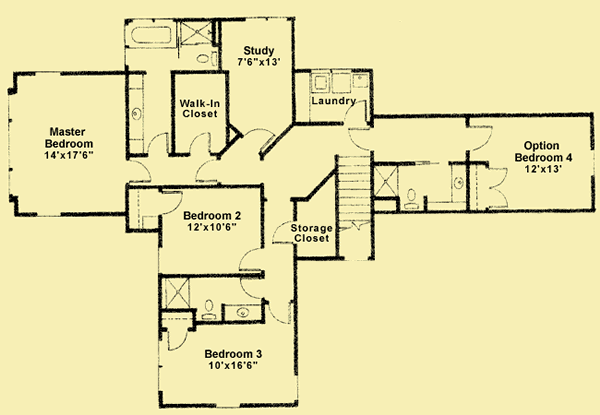door: (487, 164, 512, 209), (241, 127, 275, 154), (234, 246, 264, 272), (467, 122, 493, 151), (125, 157, 152, 184), (269, 218, 295, 246), (265, 302, 293, 328), (346, 126, 373, 152), (144, 131, 171, 156), (158, 190, 183, 215), (189, 132, 213, 156), (237, 278, 261, 301), (167, 327, 190, 351), (194, 160, 219, 182)
large_sink: (197, 298, 218, 322), (402, 186, 421, 212), (193, 48, 217, 68)
small_sink: (129, 87, 143, 140), (449, 165, 468, 201), (222, 304, 262, 321)
stairs: (335, 153, 373, 237)
tub: (125, 19, 179, 53)
